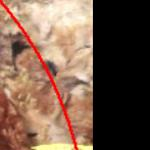alive: (3, 9, 90, 147)
